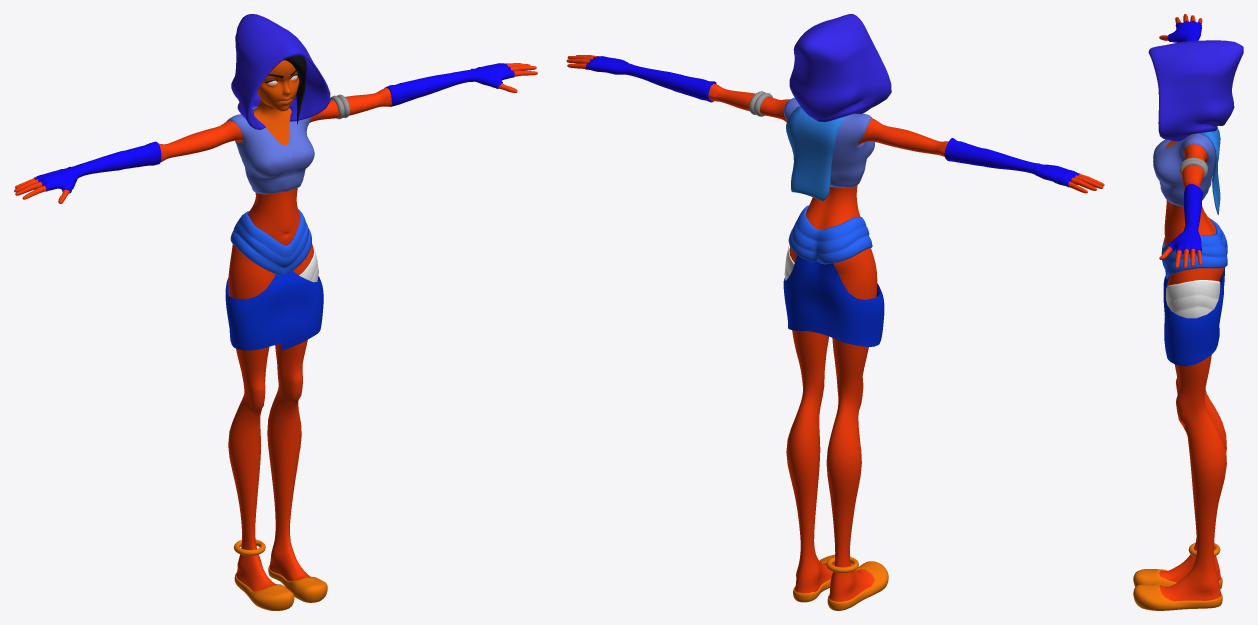
The picture shows the model from 3 angles, left to right: view 1: azimuth 30°, elevation 25°; view 2: azimuth 150°, elevation 25°; view 3: azimuth 270°, elevation 25°; orthographic projection. The views are drawn at different scales.
Parts seen in each view (by area): view 1: Body, Skirt, Hood, Gloves, Shirt, Pelvis, Face, Shoes; view 2: Body, Hood, Skirt, Gloves, Cape, Pelvis, Shirt, Shoes; view 3: Body, Hood, Skirt, Shirt, Gloves, Shoes, LegBandages, Pelvis, Cape, ArmRings.
Boxes of the visible parts, x1=… form: Body: x1=14, y1=63, x2=537, y2=591; Skirt: x1=225, y1=271, x2=323, y2=350; Hood: x1=231, y1=14, x2=330, y2=129; Gloves: x1=34, y1=63, x2=514, y2=193; Shirt: x1=226, y1=107, x2=314, y2=194; Pelvis: x1=230, y1=209, x2=311, y2=275; Face: x1=253, y1=60, x2=299, y2=145; Shoes: x1=234, y1=565, x2=327, y2=610; Body: x1=566, y1=55, x2=1104, y2=601; Hood: x1=789, y1=14, x2=891, y2=122; Skirt: x1=783, y1=255, x2=884, y2=347; Gloves: x1=585, y1=56, x2=1080, y2=187; Cape: x1=786, y1=106, x2=845, y2=200; Pelvis: x1=788, y1=205, x2=872, y2=264; Shirt: x1=784, y1=98, x2=874, y2=187; Shoes: x1=793, y1=554, x2=888, y2=610; Body: x1=1159, y1=14, x2=1226, y2=601; Hood: x1=1148, y1=40, x2=1243, y2=141; Skirt: x1=1163, y1=267, x2=1225, y2=366; Shirt: x1=1153, y1=133, x2=1215, y2=206; Gloves: x1=1167, y1=20, x2=1203, y2=254; Shoes: x1=1133, y1=569, x2=1222, y2=610; LegBandages: x1=1166, y1=280, x2=1220, y2=318; Pelvis: x1=1161, y1=217, x2=1227, y2=279; Cape: x1=1199, y1=128, x2=1220, y2=214; ArmRings: x1=1179, y1=157, x2=1207, y2=178.
Size of the model in its own units: 62.39 by 63.98 by 11.52.
